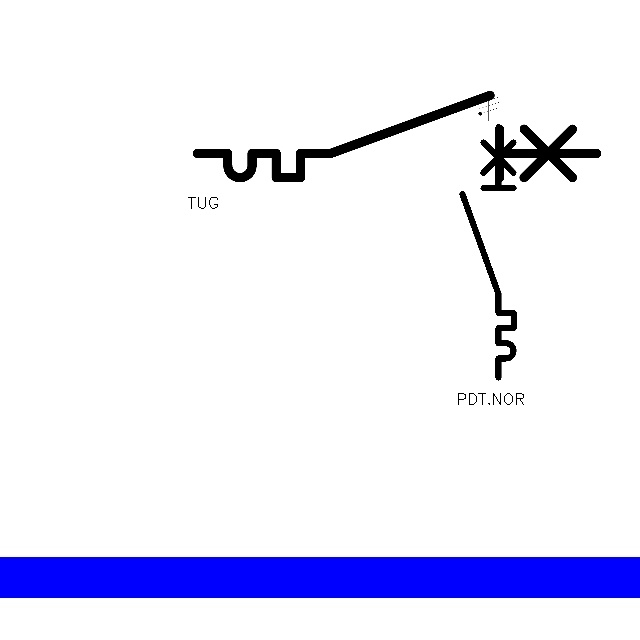interruptor_termomagnetico: (187, 85, 607, 188), (456, 120, 520, 383)
